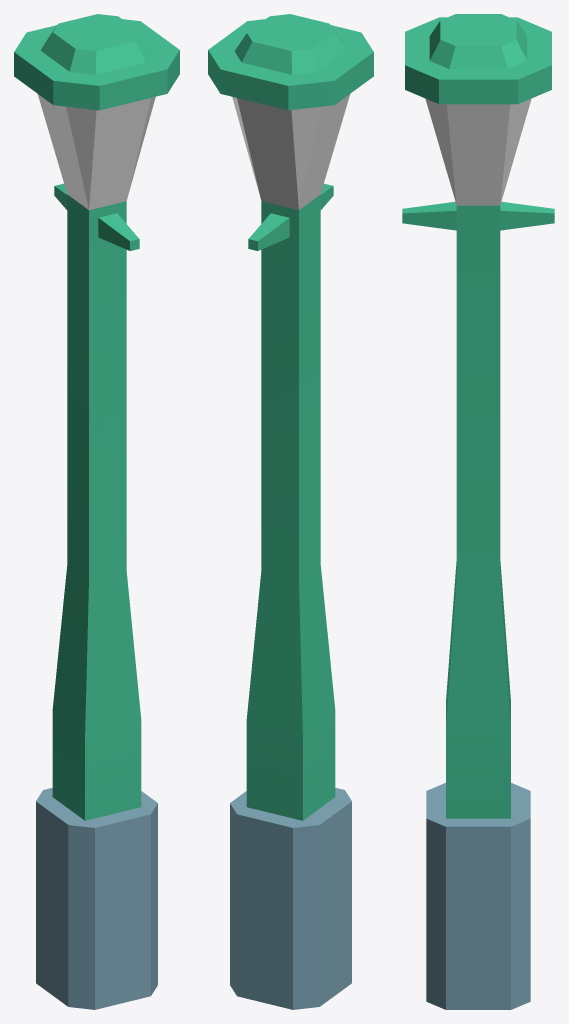
File: lantern.fbx
The picture shows the model from 3 angles, left to right: view 1: azimuth 30°, elevation 25°; view 2: azimuth 150°, elevation 25°; view 3: azimuth 270°, elevation 25°; orthographic projection.
Parts seen in each view (by area): view 1: lantern; view 2: lantern; view 3: lantern.
Part boxes in pixels (x1,y1,x2,y2): lantern: (14,14,179,1009); lantern: (208,14,373,1009); lantern: (402,14,554,1009).
Size of the model in its own units: 2.16 by 15.56 by 2.24.
